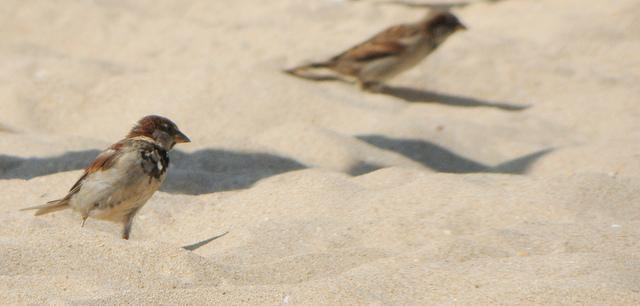bird: (17, 114, 192, 238), (284, 10, 473, 91)
